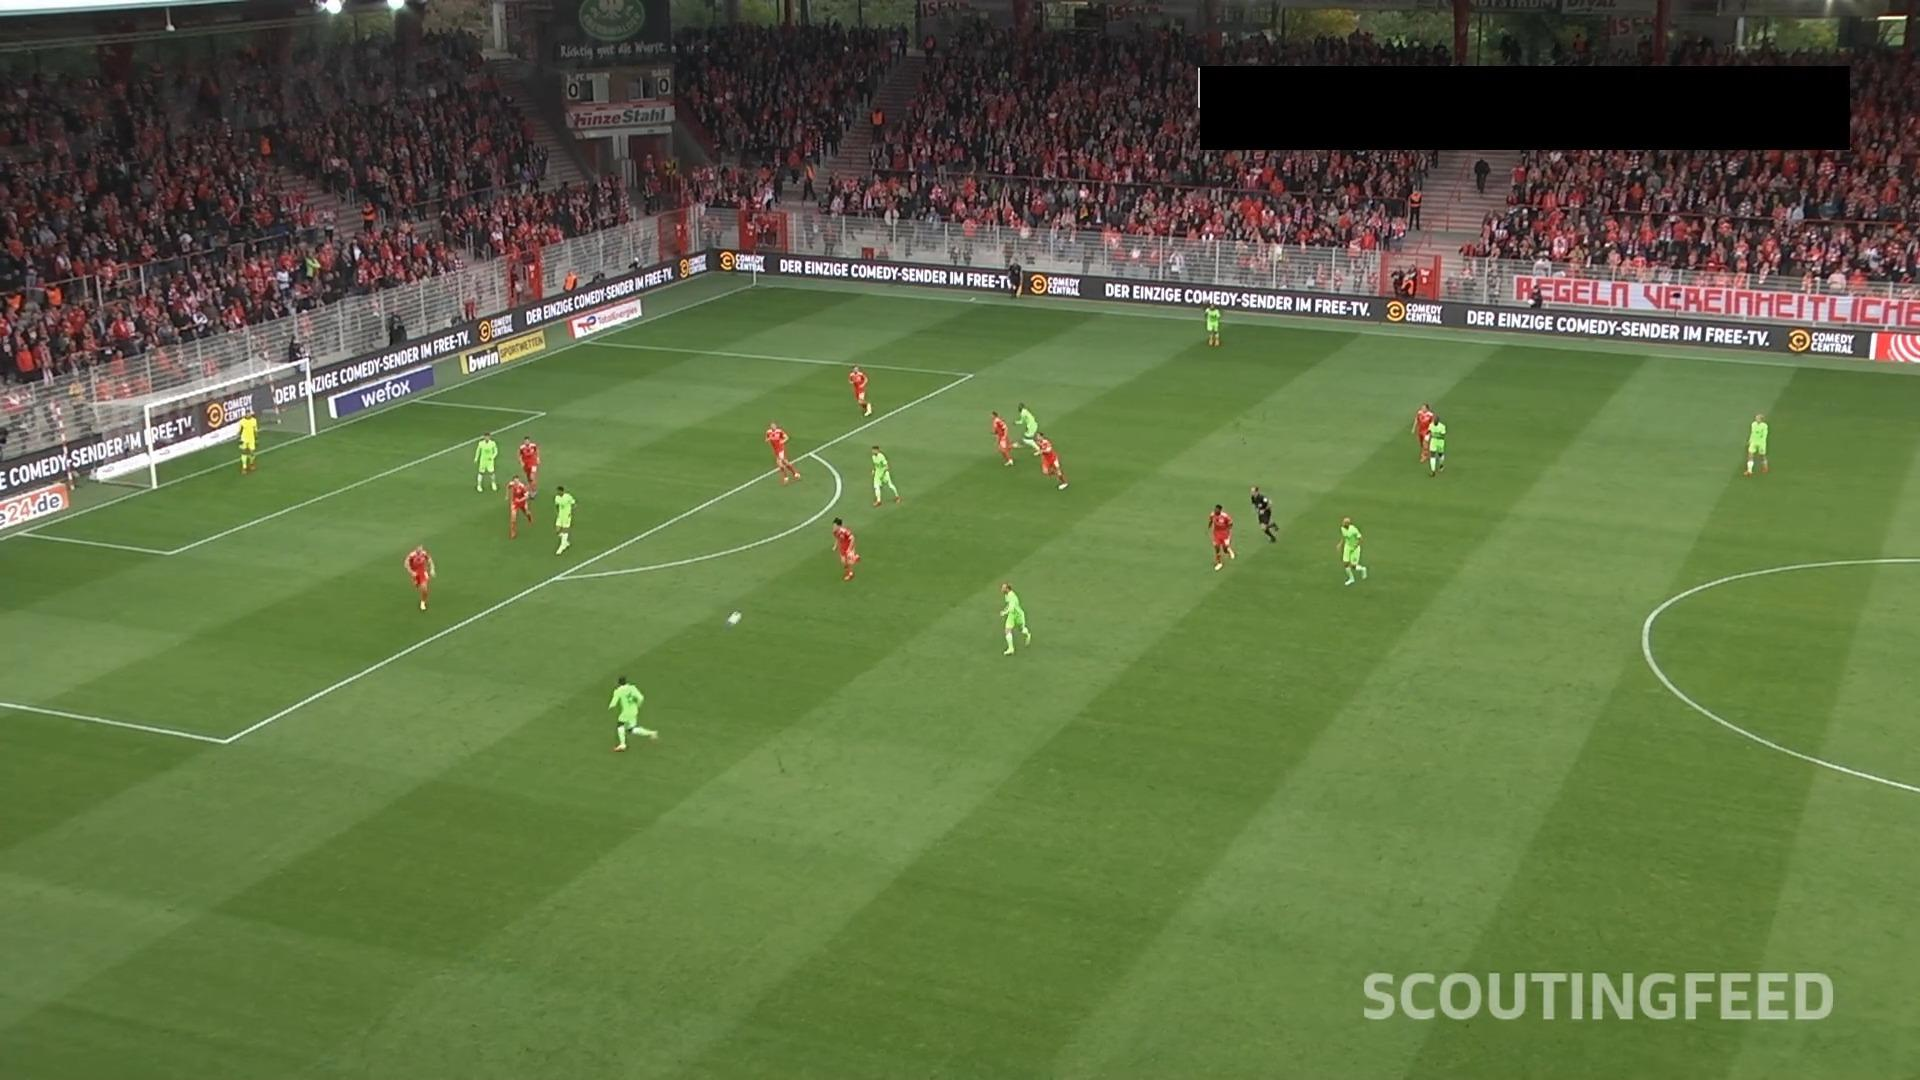ball: (725, 609, 744, 628)
